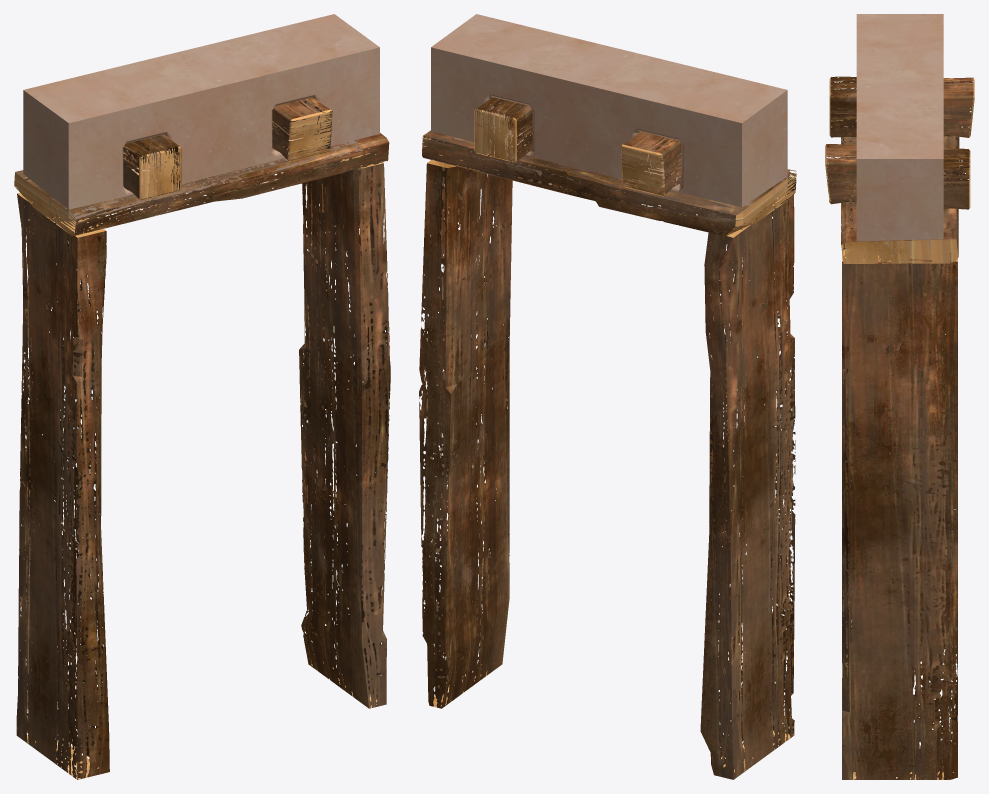
The picture shows the model from 3 angles, left to right: view 1: azimuth 30°, elevation 25°; view 2: azimuth 150°, elevation 25°; view 3: azimuth 270°, elevation 25°; orthographic projection. The views are drawn at different scales.
Visible parts, largest first — view 1: SM_BB_T4_Wall_Doorframe_Narrow_LOD0; view 2: SM_BB_T4_Wall_Doorframe_Narrow_LOD0; view 3: SM_BB_T4_Wall_Doorframe_Narrow_LOD0.
Boxes of the visible parts, <box> form: SM_BB_T4_Wall_Doorframe_Narrow_LOD0: <box>14,14,390,779</box>; SM_BB_T4_Wall_Doorframe_Narrow_LOD0: <box>419,14,796,779</box>; SM_BB_T4_Wall_Doorframe_Narrow_LOD0: <box>825,14,974,779</box>.
Bounding box in the file's own units: 1.55 × 3 × 0.6543.
Materials: 2 (2 with a texture image).
